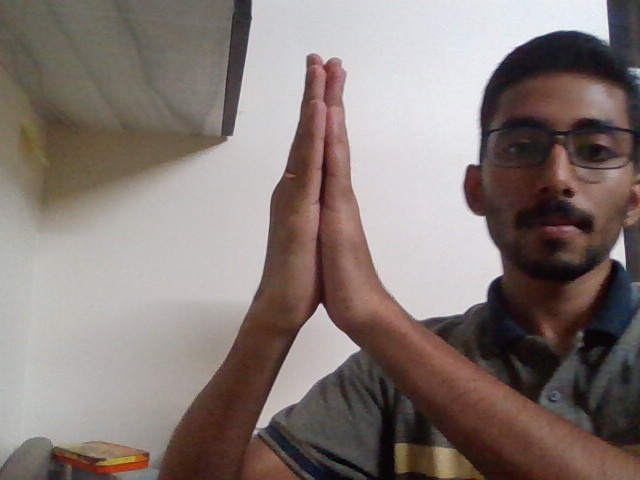Thank You: (245, 41, 402, 358)
